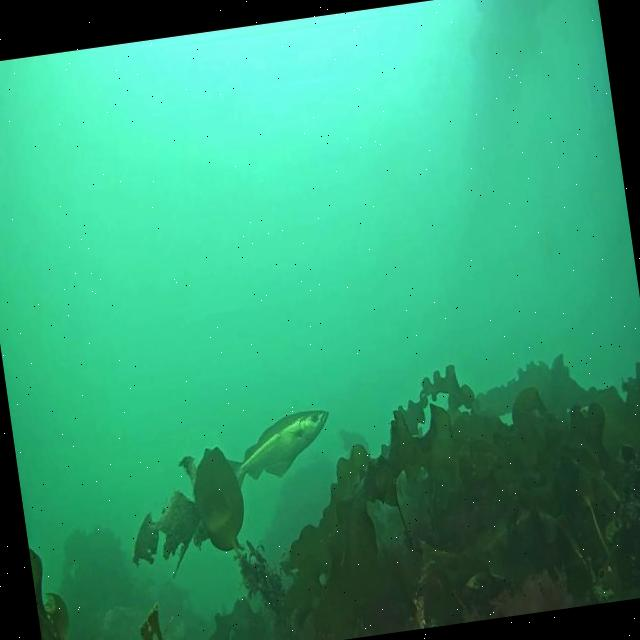fish: (221, 404, 339, 496)
